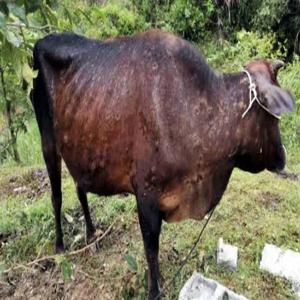lumpy skin diesease: (28, 27, 298, 299)
